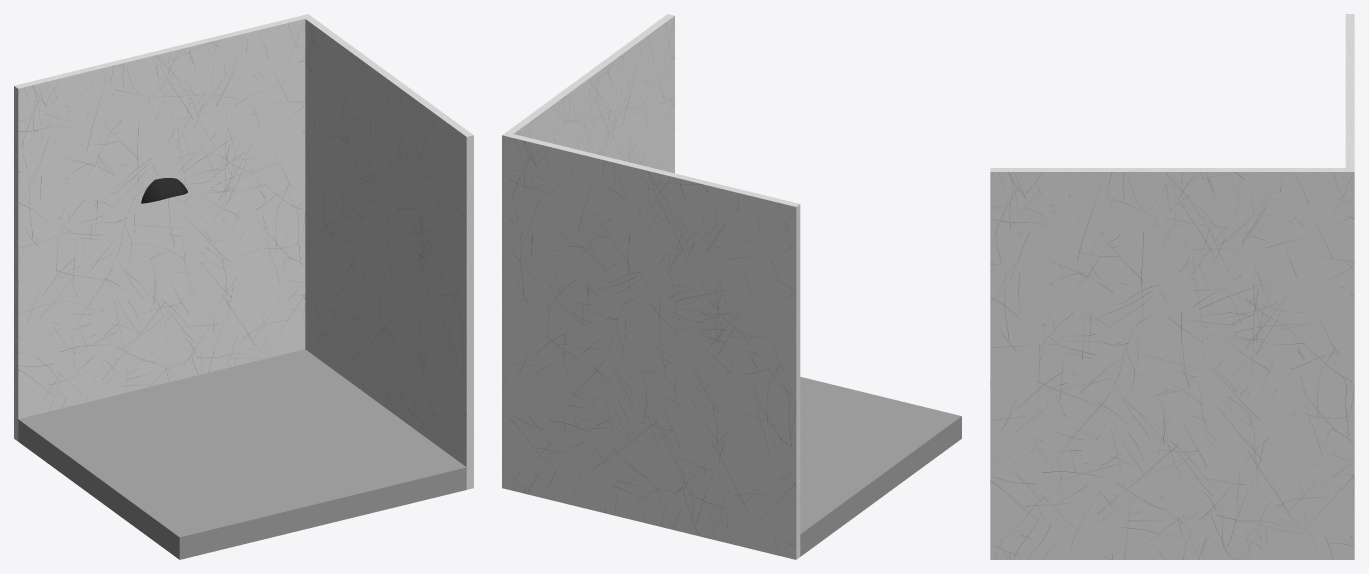
The picture shows the model from 3 angles, left to right: view 1: azimuth 30°, elevation 25°; view 2: azimuth 150°, elevation 25°; view 3: azimuth 270°, elevation 25°; orthographic projection. The views are drawn at different scales.
Visible parts, largest first — view 1: cube1, cube2, cube3, e_m_6objcleanermaterialmergergles; view 2: cube1, cube2, cube3; view 3: cube2, cube1.
Part boxes in pixels (bbox=[...]): cube1: bbox=[14, 16, 305, 441]; cube2: bbox=[301, 14, 473, 489]; cube3: bbox=[18, 349, 466, 559]; e_m_6objcleanermaterialmergergles: bbox=[141, 178, 187, 203]; cube1: bbox=[509, 134, 800, 559]; cube2: bbox=[502, 14, 674, 489]; cube3: bbox=[800, 377, 961, 556]; cube2: bbox=[990, 168, 1354, 559]; cube1: bbox=[1345, 14, 1354, 167].
Bounding box in the file's own units: 4.1 × 4.7 × 4.
Materials: 4 (3 with a texture image).
